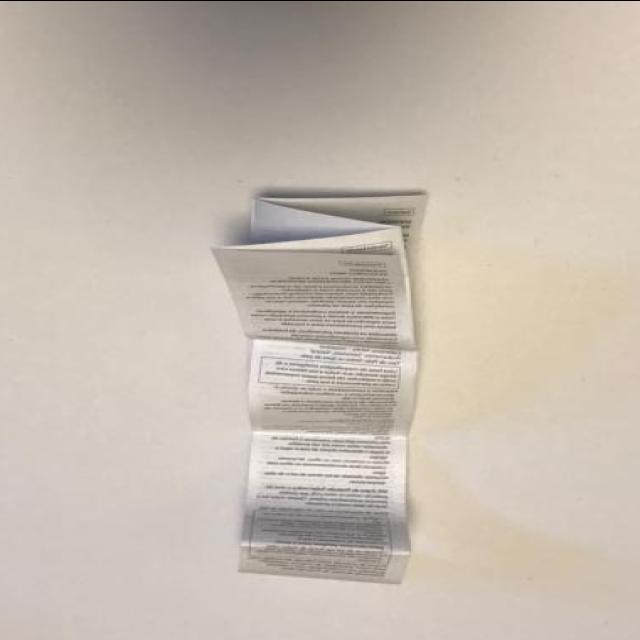kertas: (211, 191, 428, 586)
